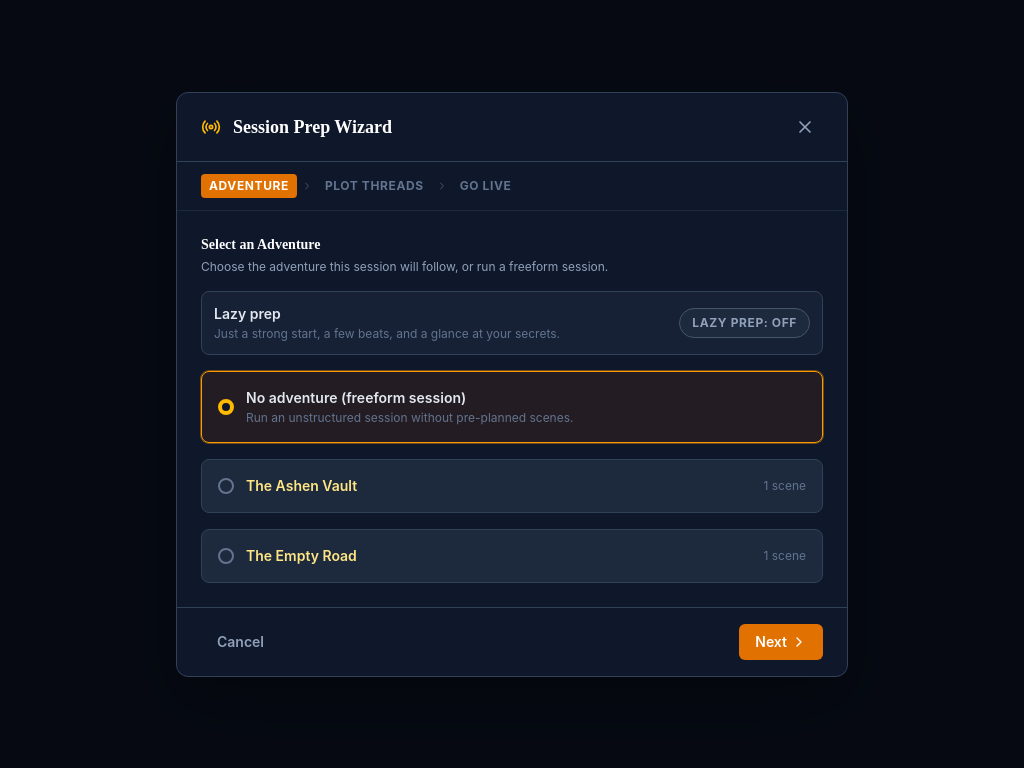
Test case: SessionPrepWizard — the Secrets Check step narrows to tonight › shows the unrevealed secrets that concern tonight's cast and places
Click the button "The Ashen Vault 1 scene" at (302, 485), box [201, 458, 823, 512]
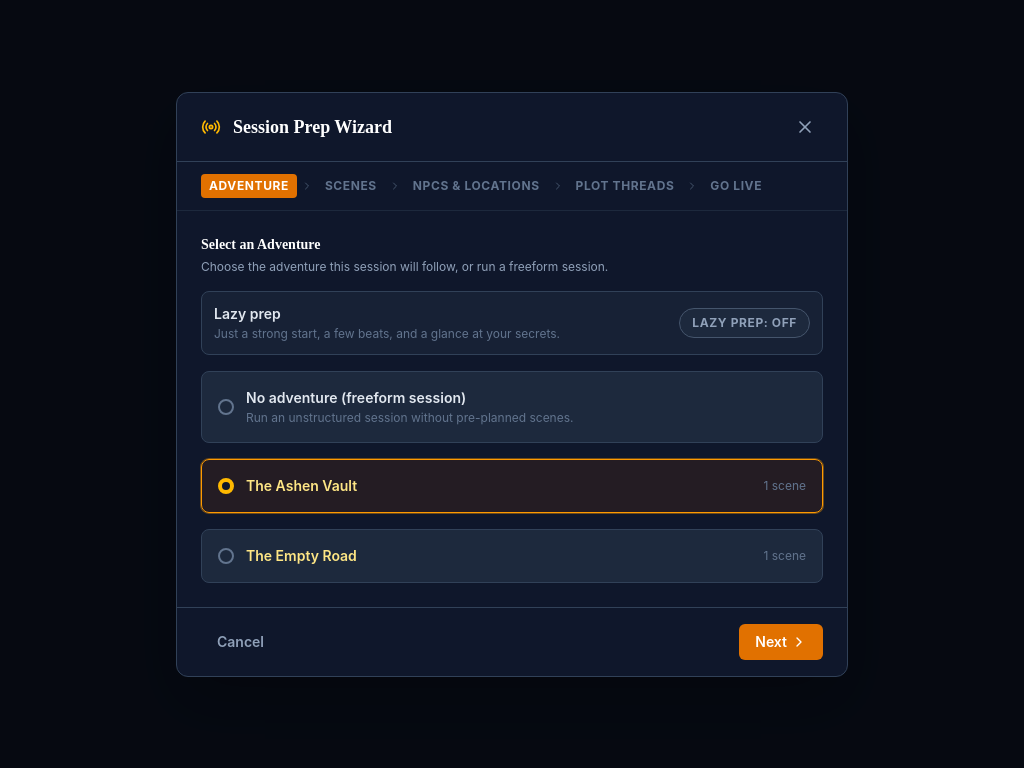
Click the button "Lazy prep: off" at (745, 322), box [679, 308, 810, 338]
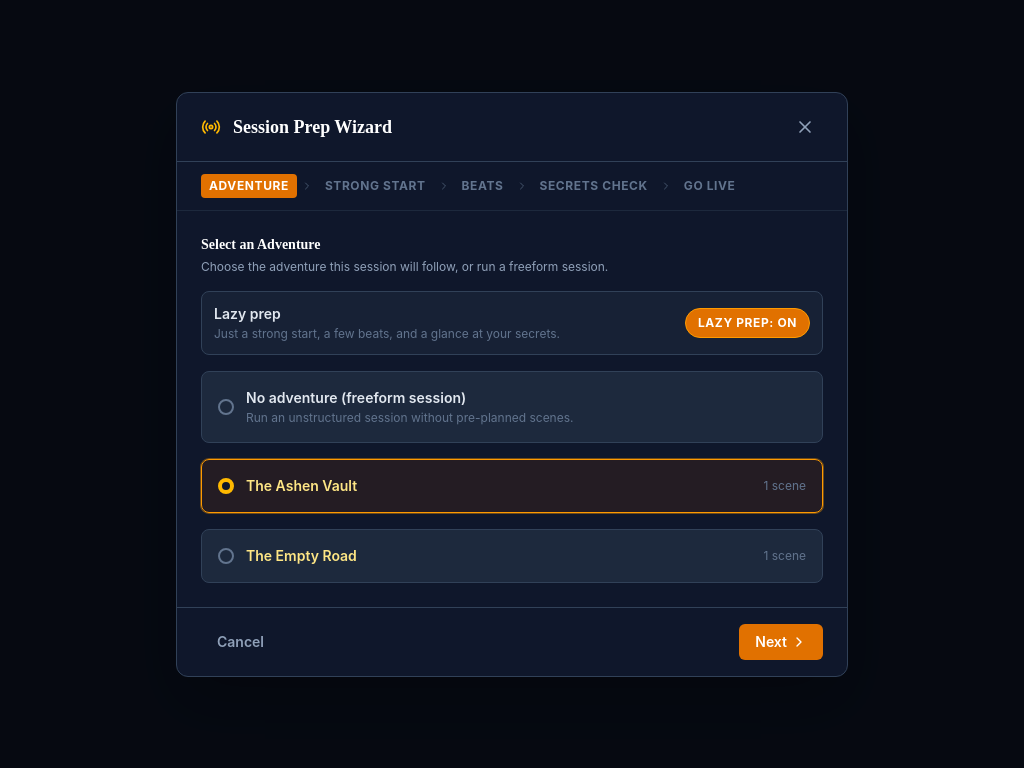
Click the button "Secrets Check" at (594, 186), box [532, 174, 656, 198]
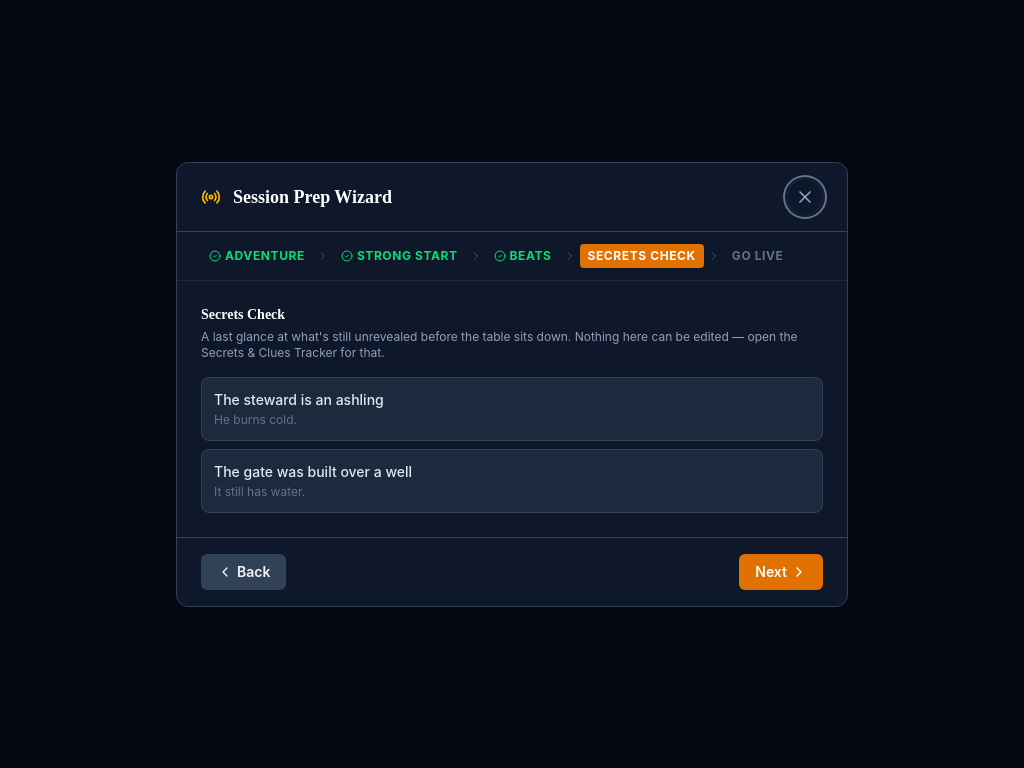
Expected: the text "The steward is an ashling" is shown, [214, 390, 384, 408]
Expected: the text "The gate was built over a well" is shown, [214, 462, 412, 480]
